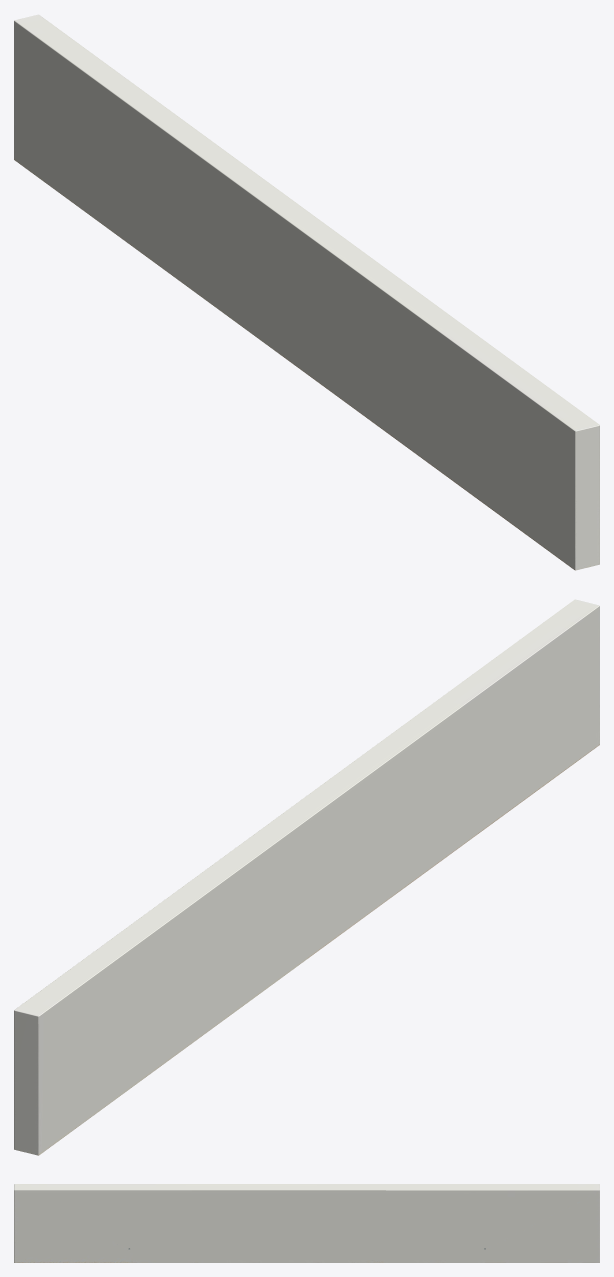
File: lack_poka_scienna_50282182.glb
The picture shows the model from 3 angles, top to bottom: view 1: azimuth 30°, elevation 25°; view 2: azimuth 150°, elevation 25°; view 3: azimuth 270°, elevation 25°; orthographic projection. The views are drawn at different scales.
Parts seen in each view (by area): view 1: lack_poka_scienna_50282182; view 2: lack_poka_scienna_50282182; view 3: lack_poka_scienna_50282182.
Part boxes in pixels (x1=…): lack_poka_scienna_50282182: x1=14, y1=14, x2=599, y2=570; lack_poka_scienna_50282182: x1=14, y1=599, x2=599, y2=1155; lack_poka_scienna_50282182: x1=14, y1=1184, x2=599, y2=1262.
Size of the model in its own units: 0.0489 by 0.26 by 1.9.
Materials: 1 (1 with a texture image).
